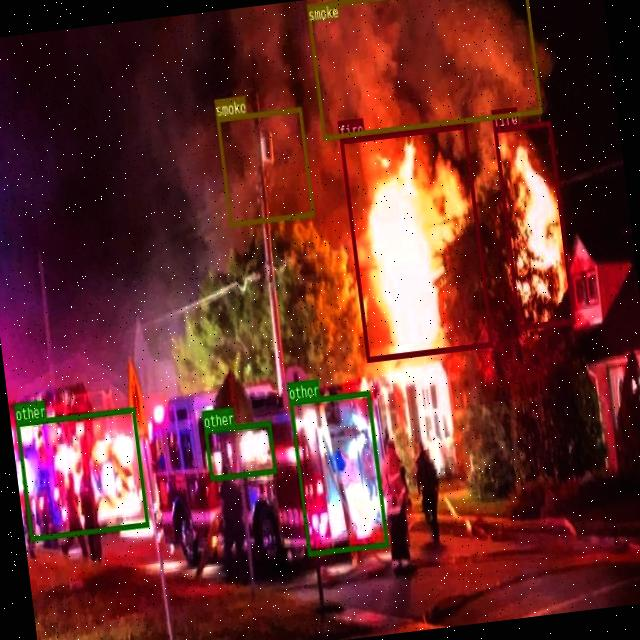fire: (339, 123, 492, 361), (492, 120, 574, 329)
smoke: (305, 0, 541, 139), (215, 106, 314, 226)
